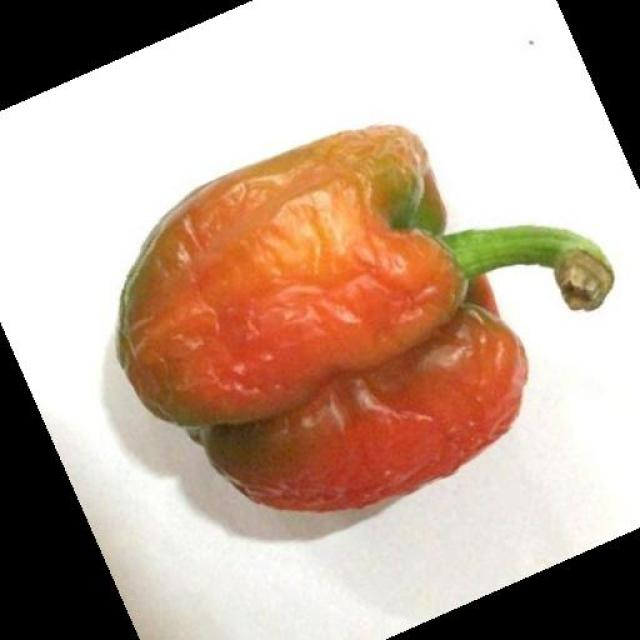Stale_Capsicum: (138, 118, 607, 525)
